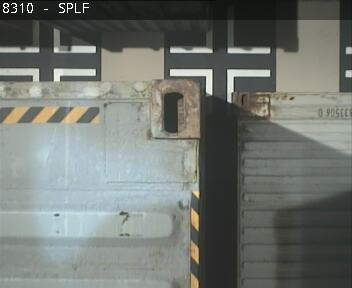groundmarker_1: (168, 8, 271, 53), (169, 68, 268, 114), (1, 19, 96, 52)
